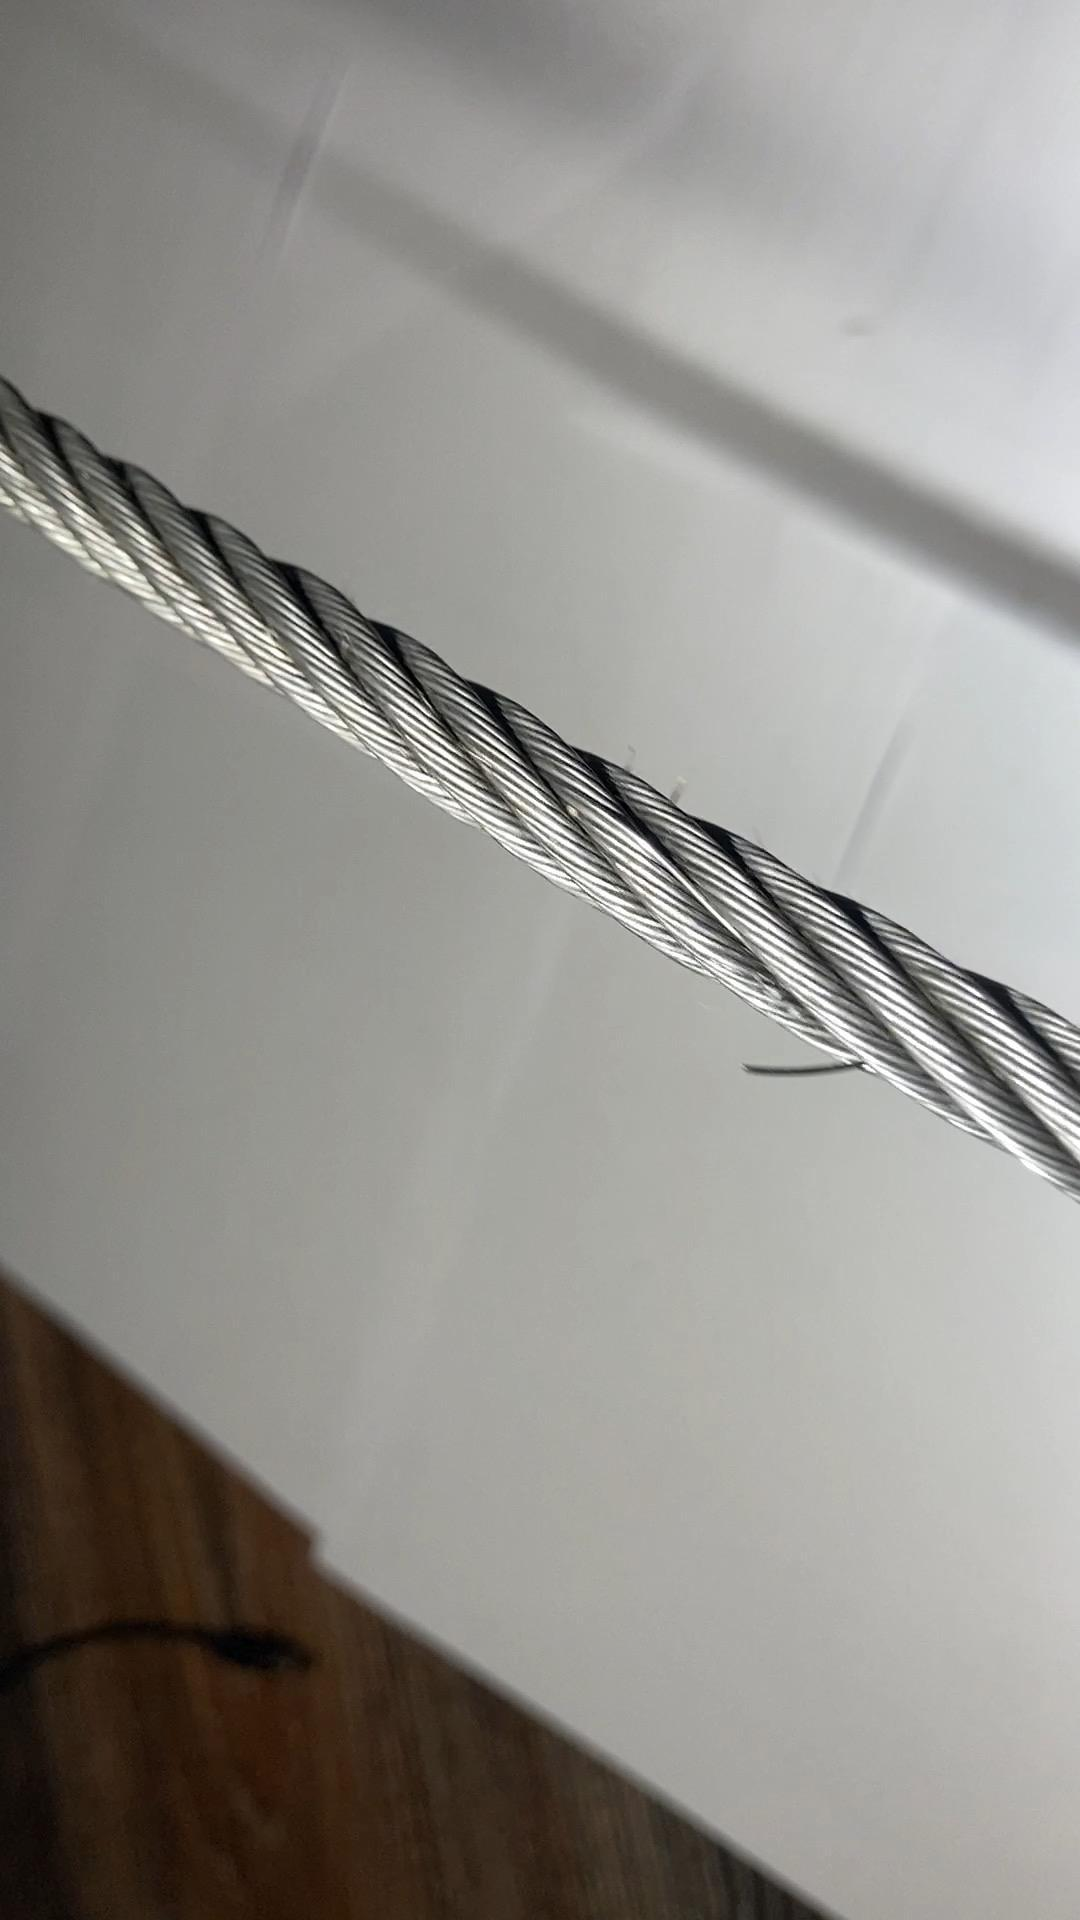break: (723, 996, 891, 1105)
